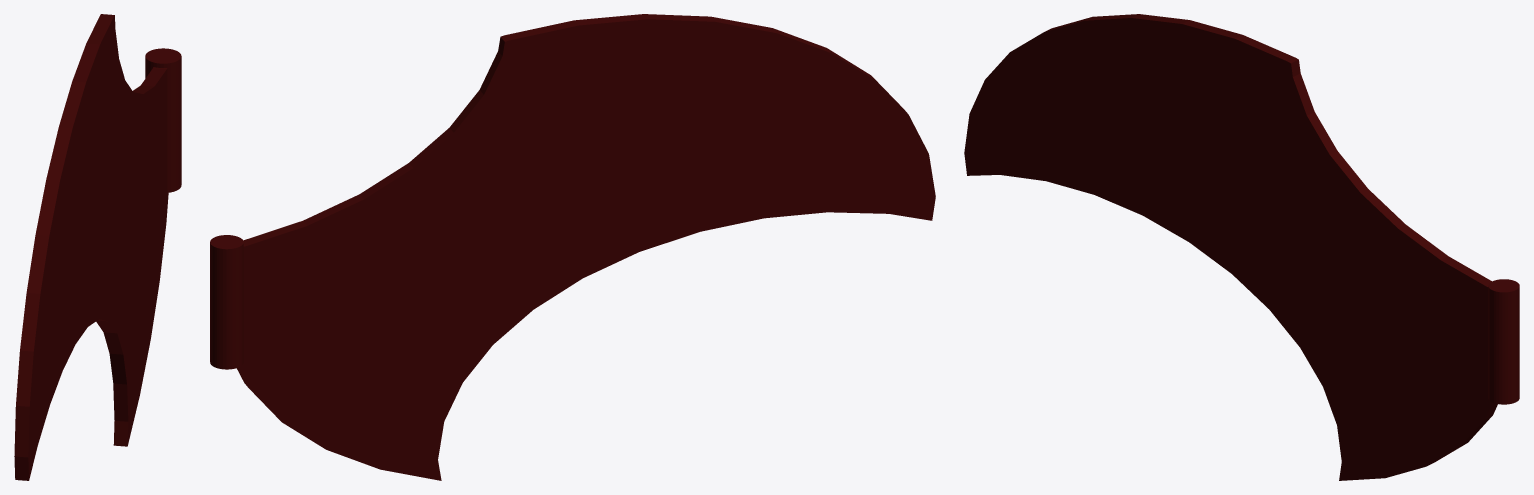
The model's file is dragonwings.fbx.
3 renders of one model, left to right at view 1: azimuth 30°, elevation 25°; view 2: azimuth 150°, elevation 25°; view 3: azimuth 270°, elevation 25°, orthographic. The views are drawn at different scales.
Parts seen in each view (by area): view 1: wing; view 2: wing; view 3: wing.
Part boxes in pixels (x1,y1,x2,y2): wing: (14,14,181,480); wing: (210,14,935,480); wing: (964,14,1519,480).
Bounding box in the file's own units: 493 × 467 × 580.
